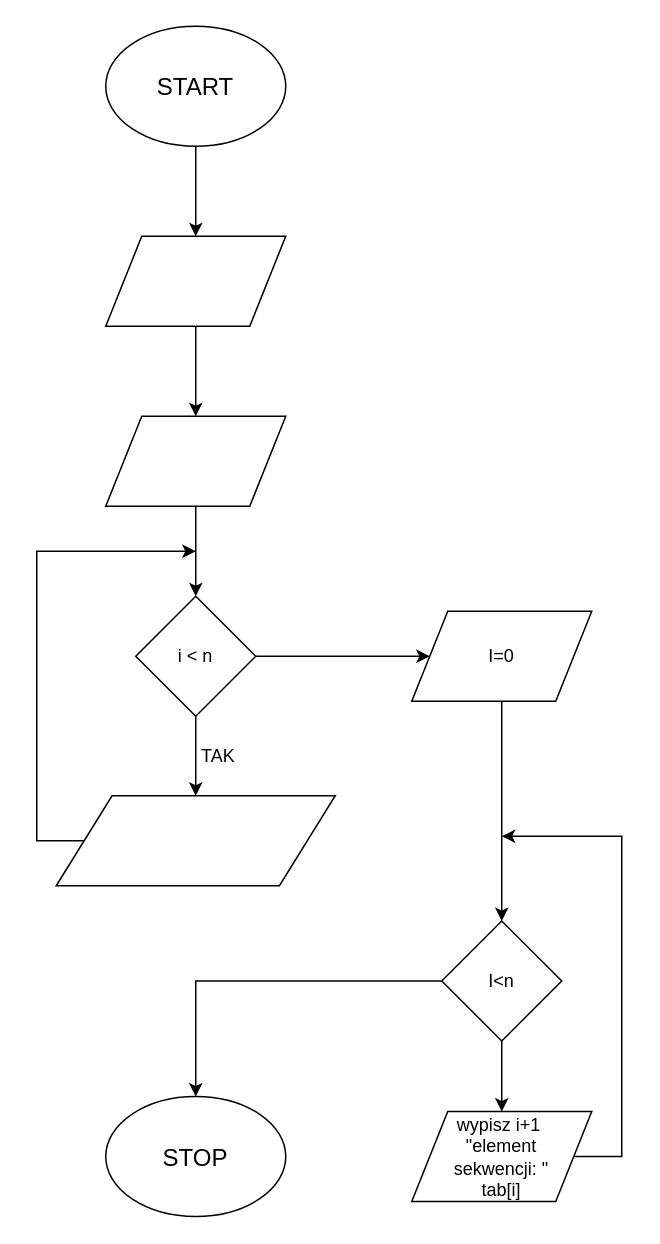
Image size: 660x1244. Some labels were removed from this diagram. Each missing label, with the box of its shape:
int n, i = 2; long t[n]; tab[0] = 1 tab[1] = 1: (104, 235, 286, 326)
tab[i] = tab[i-1] + tab[i-2] i++: (55, 794, 335, 886)
wprowadź n: (104, 415, 286, 506)
